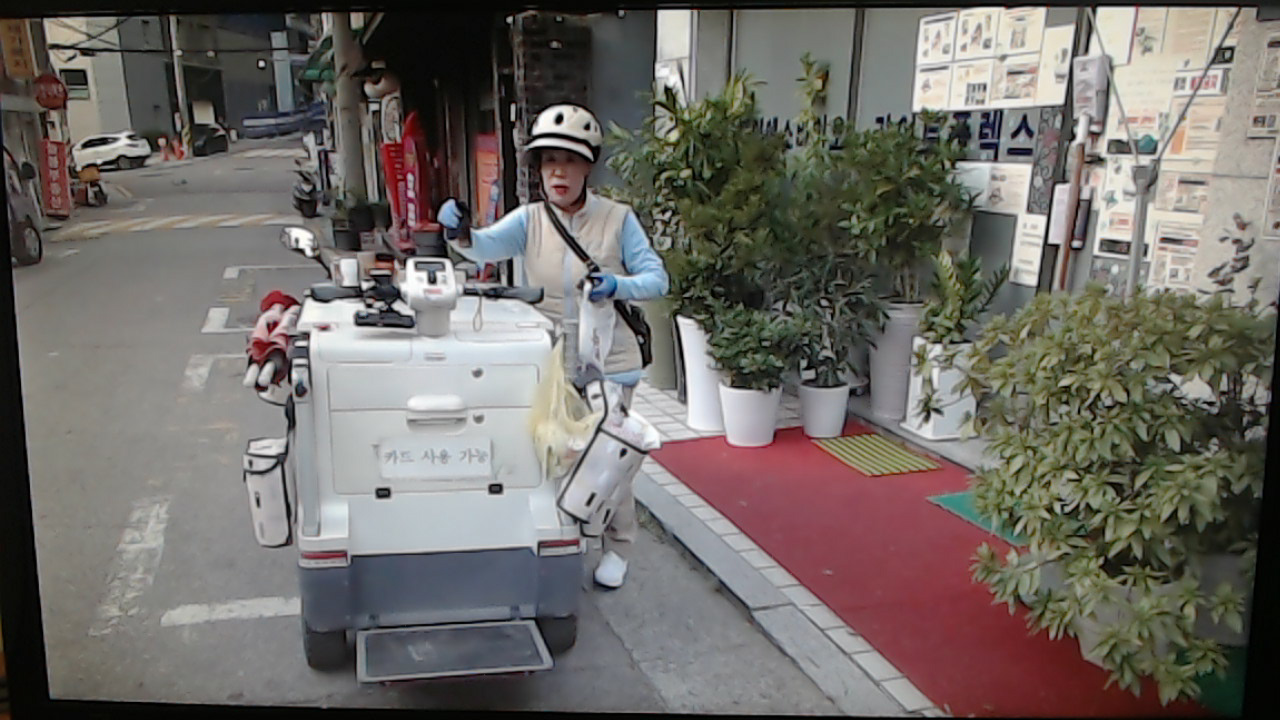Yakurut: (423, 84, 692, 602)
